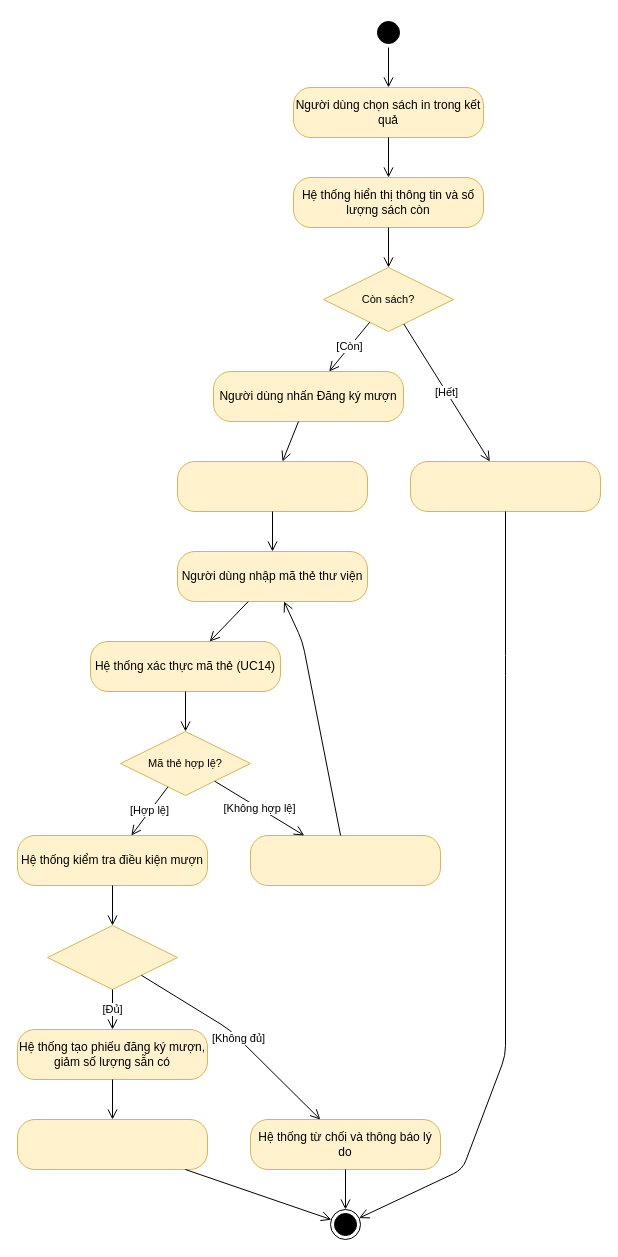
This 618x1257 diagram has some shape labels left out. The centre of each missing label's shape, as x and y in pixels:
Hệ thống thông báo mã thẻ không hợp lệ: the point at 345,860
Hệ thống thông báo sách đã hết: the point at 505,486
Hệ thống thông báo đăng ký thành công: the point at 112,1144
Hệ thống yêu cầu nhập mã thẻ thư viện: the point at 272,486
Đủ điều kiện?: the point at 112,957
